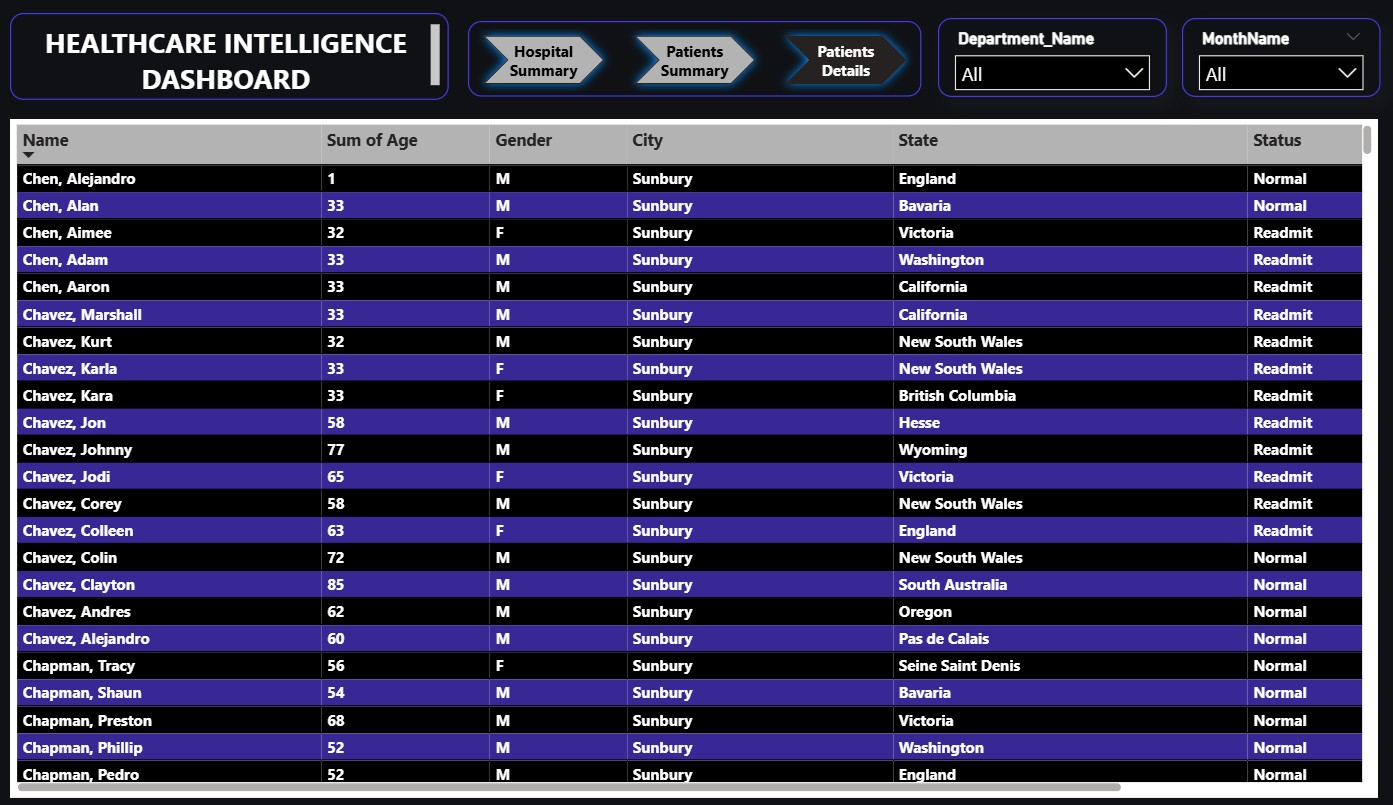

The page's visual inventory and layout, read from the dashboard file:
{"tool":"powerbi","page":{"name":"Patients Details","canvas":[1280,720],"ordinal":2},"visuals":[{"type":"tableEx","fields":{"Values":["Detail data dataset.Name","Detail data dataset.Age","Detail data dataset.Gender","Detail data dataset.City","Detail data dataset.State","Detail data dataset.Status"]},"box":[32.8,109.1,1213,602.1],"z":0},{"type":"textbox","box":[32.8,15.1,389.3,77.1],"z":1000},{"type":"slicer","fields":{"Values":["Department.Department_Name"]},"box":[855.7,19.5,203.1,70],"z":2000},{"type":"slicer","fields":{"Values":["Calendar_date.MonthName"]},"box":[1072.3,19.3,175.7,70.3],"z":3000},{"type":"pageNavigator","box":[438.9,22.2,401.7,67.4],"z":4000}]}

Visuals, with their boxes on the page's 1280x720 design canvas (x1, y1, x2, y2). These are canvas units, not pixel positions in the 1393x805 screenshot, which may show the page scaled, cropped or inside an application window:
tableEx - Detail data dataset.Name x Detail data dataset.Age: (33,109,1246,711)
textbox: (33,15,422,92)
slicer - Department.Department_Name: (856,20,1059,90)
slicer - Calendar_date.MonthName: (1072,19,1248,90)
pageNavigator: (439,22,841,90)
